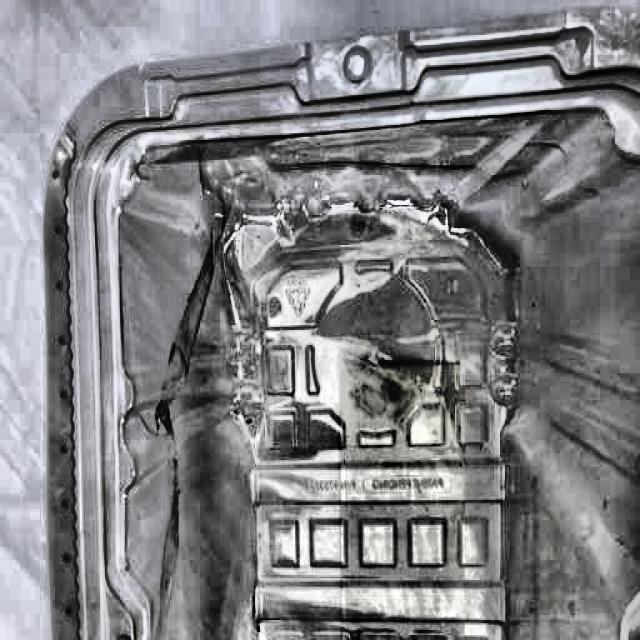plastic: (52, 37, 640, 640)
